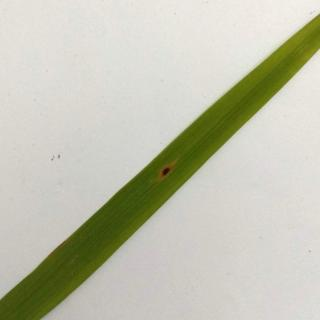bercak-Cokelat: (157, 159, 176, 182)
